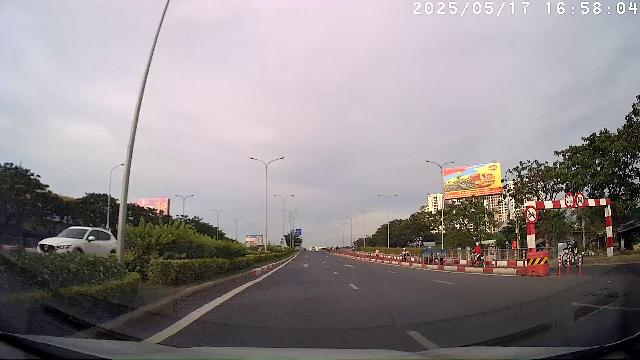103a-cam-oto: (575, 192, 585, 208)
